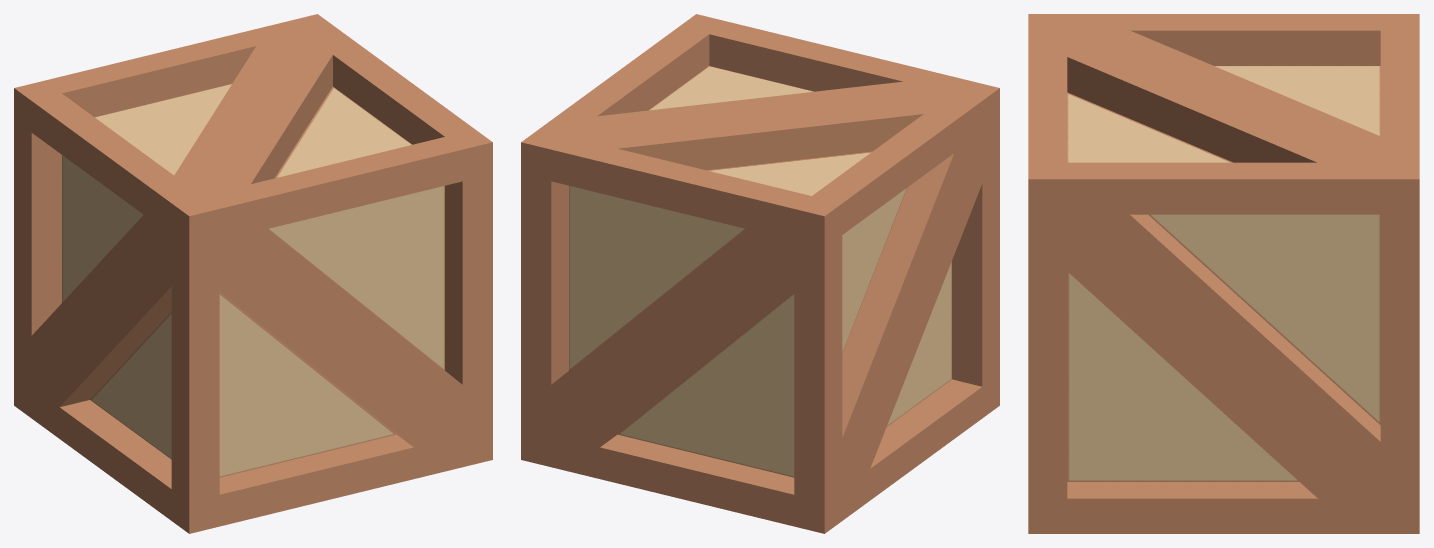
Rendered from BoxObj.fbx.
3 views of the same model, side by side, from view 1: azimuth 30°, elevation 25°; view 2: azimuth 150°, elevation 25°; view 3: azimuth 270°, elevation 25° (orthographic). The views are drawn at different scales.
Parts seen in each view (by area): view 1: pCube1; view 2: pCube1; view 3: pCube1.
Boxes of the visible parts, x1,y1,x2,y2 form: pCube1: (14,14,492,533); pCube1: (521,14,999,533); pCube1: (1028,14,1419,533).
Bounding box in the file's own units: 10 × 10 × 10.
